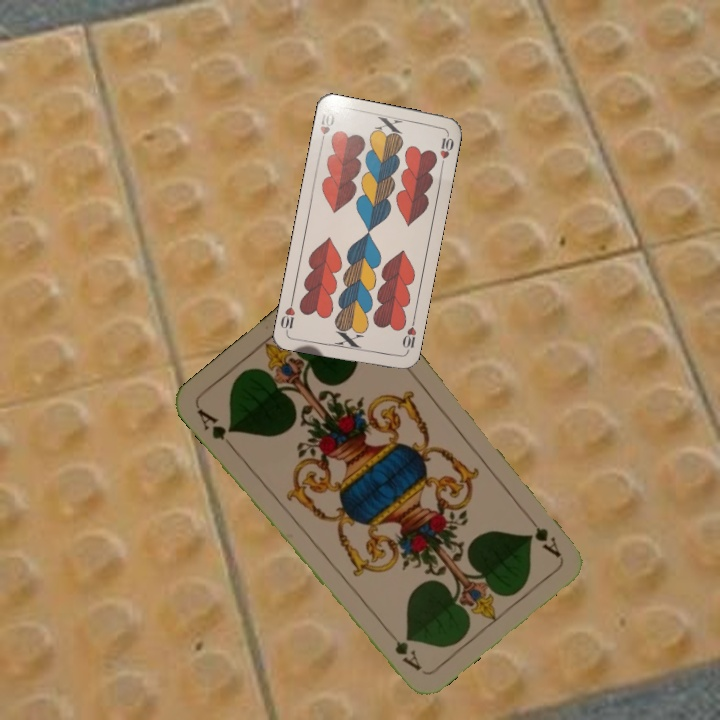GA: (521, 509, 564, 560), (193, 404, 237, 451)
H10: (316, 107, 337, 148), (398, 316, 419, 356)
